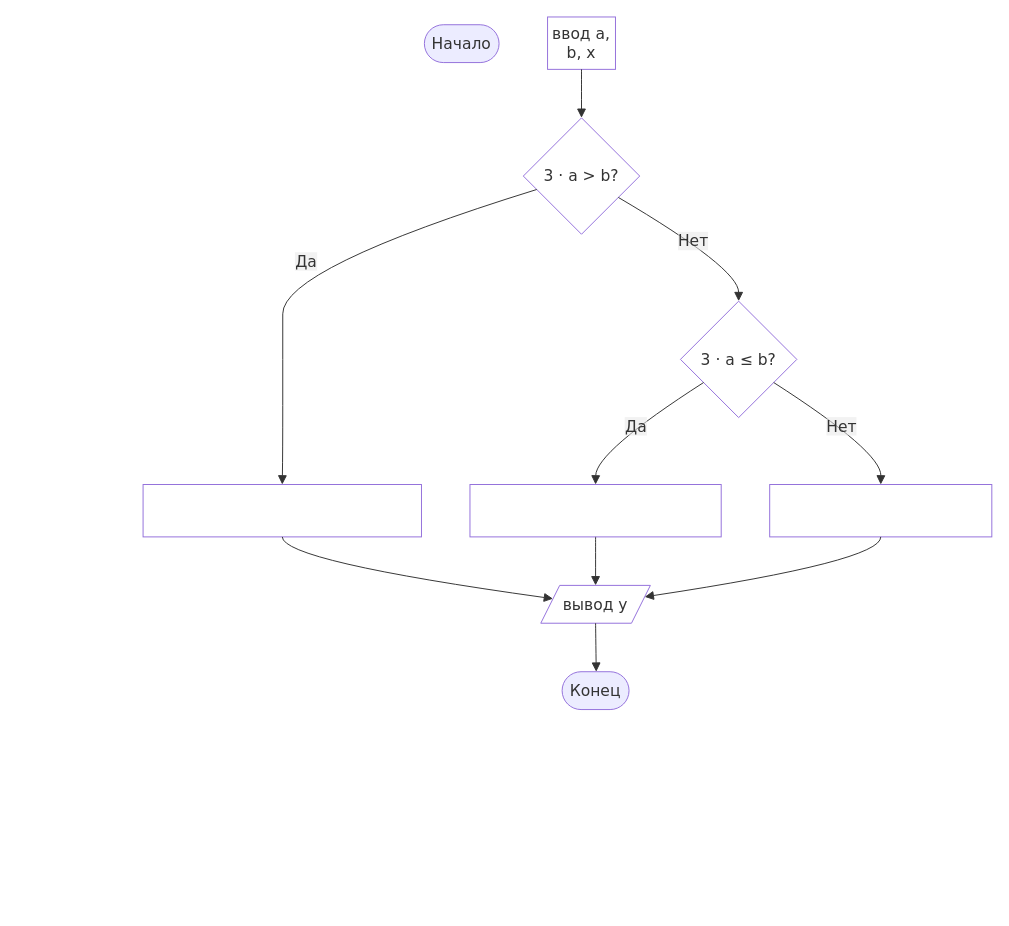
The diagram is 1009 pixels wide and 926 high, and some of its shapes have lost their labels. Here are the shapes that lost their labels. From the top down, the centre of each, then its label:
(281,510): y = round(log(x²) − exp(x/3), 2)
(595,510): y = round(atan(2x − 0.6), 2)
(880,510): y = 'не удов. условиям'
